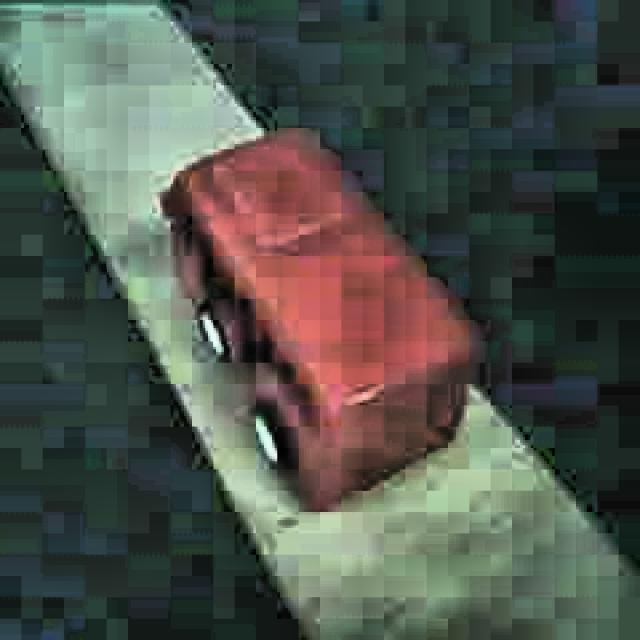bus: (160, 123, 478, 516)
